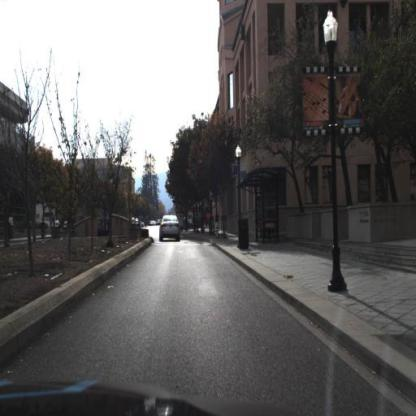car: (160, 214, 183, 245)
